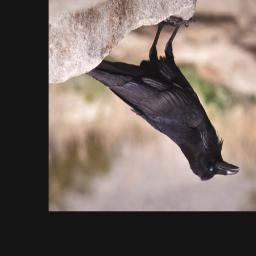Crow: (84, 19, 241, 186)
